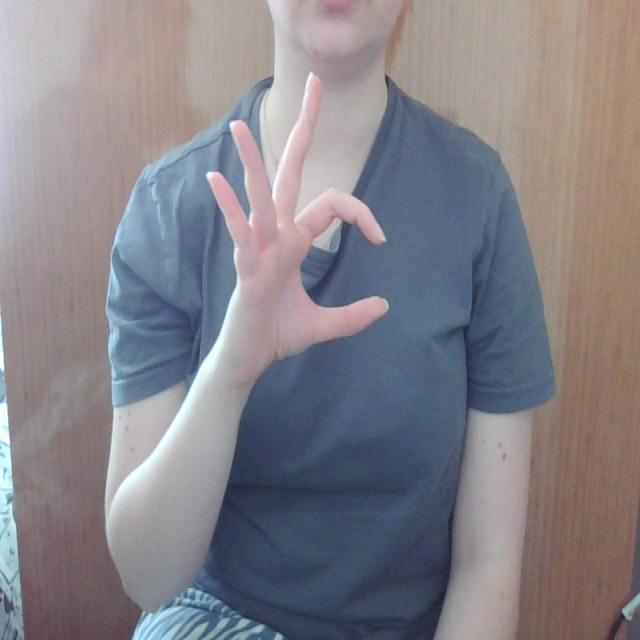Tuvalet: (178, 58, 408, 380)
